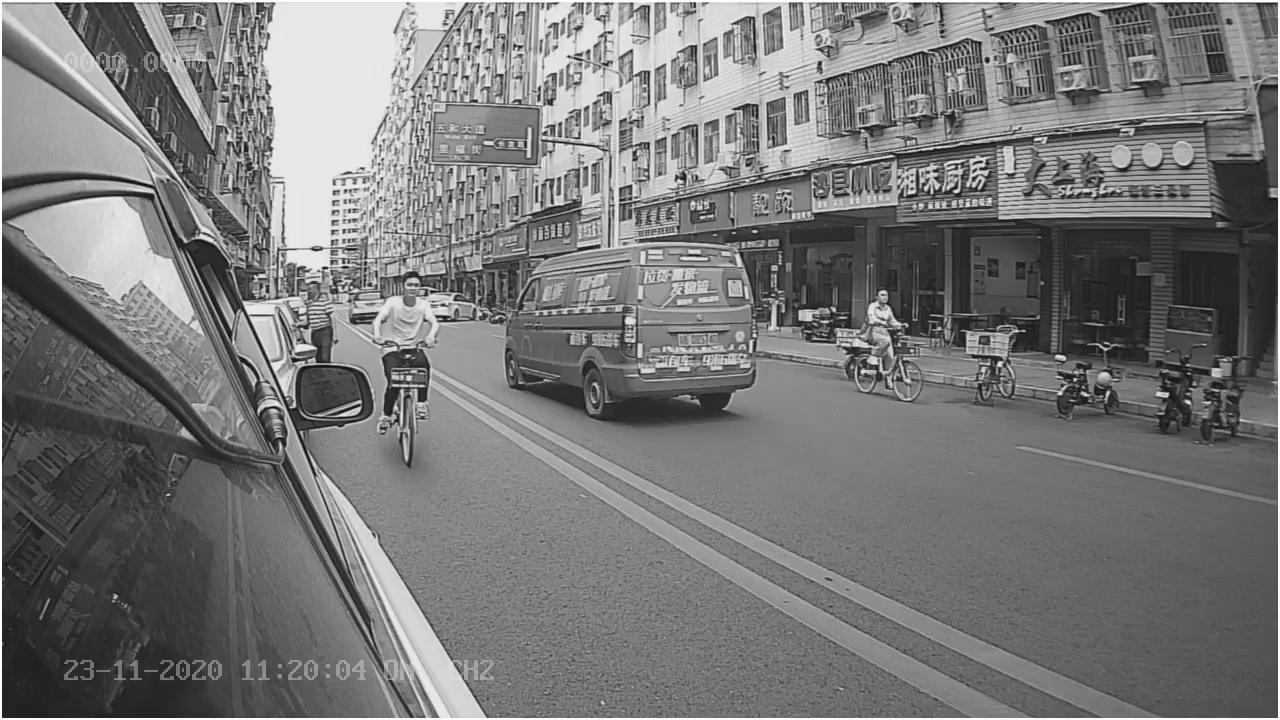person: (363, 270, 444, 347)
